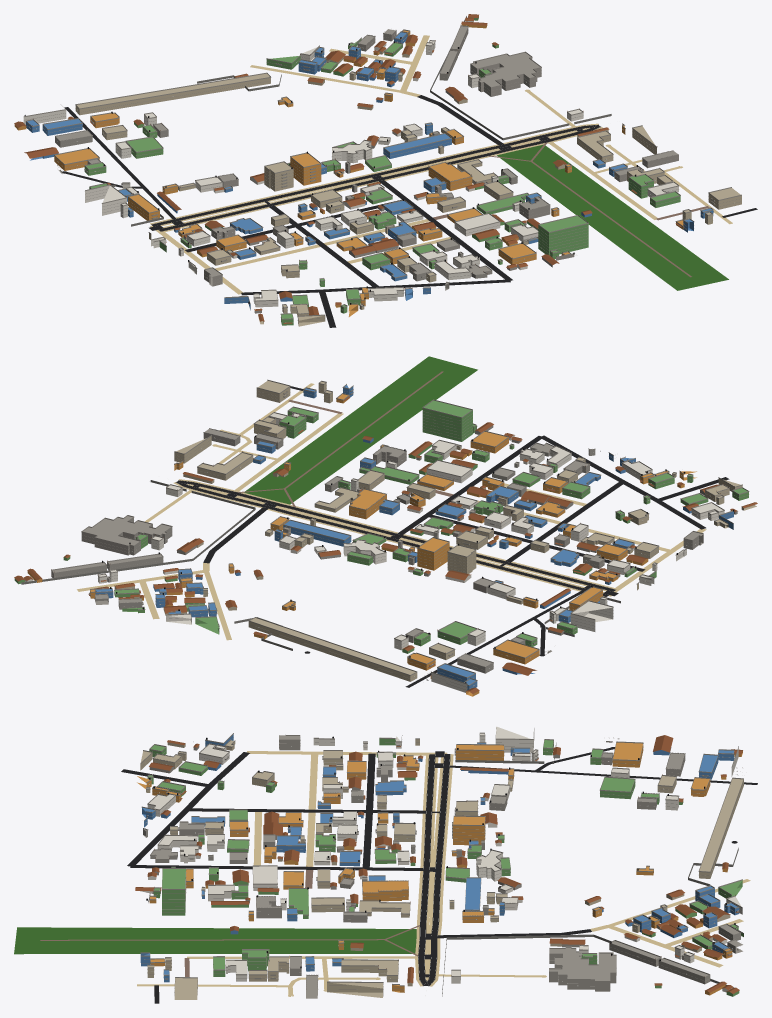
Rendered from zone_t5_1.glb.
3 views of the same model, one above another, from view 1: azimuth 30°, elevation 25°; view 2: azimuth 150°, elevation 25°; view 3: azimuth 270°, elevation 25° (orthographic). The views are drawn at different scales.
Parts seen in each view (by area): view 1: parapet_t5_1, bld_peinture_ecaillee_t5_1-col, zone_herbe_t5_1, bld_peinture_blanc_t5_1-col, bld_peinture_vert_t5_1-col, bld_beton_t5_1-col, bld_peinture_ocre_t5_1-col, bld_peinture_bleu_t5_1-col, toit_tole_t5_1, route_tertiary_bitume_t5_1, route_residential_terre_t5_1, bandeau_t5_1 (+5 smaller); view 2: parapet_t5_1, bld_peinture_ecaillee_t5_1-col, zone_herbe_t5_1, bld_peinture_blanc_t5_1-col, bld_peinture_vert_t5_1-col, bld_beton_t5_1-col, bld_peinture_ocre_t5_1-col, bld_peinture_bleu_t5_1-col, toit_tole_t5_1, bandeau_t5_1, route_residential_bitume_t5_1, route_tertiary_bitume_t5_1 (+5 smaller); view 3: parapet_t5_1, zone_herbe_t5_1, bld_peinture_ecaillee_t5_1-col, bld_beton_t5_1-col, bld_peinture_blanc_t5_1-col, bld_peinture_vert_t5_1-col, bld_peinture_ocre_t5_1-col, toit_tole_t5_1, bld_peinture_bleu_t5_1-col, route_residential_bitume_t5_1, route_tertiary_bitume_t5_1, route_residential_terre_t5_1 (+7 smaller).
Boxes of the visible parts, x1,y1,x2,y2 form: parapet_t5_1: (23,25,741,320); bld_peinture_ecaillee_t5_1-col: (75,49,741,326); zone_herbe_t5_1: (497,144,728,290); bld_peinture_blanc_t5_1-col: (23,21,678,307); bld_peinture_vert_t5_1-col: (84,16,680,325); bld_beton_t5_1-col: (55,26,678,313); bld_peinture_ocre_t5_1-col: (14,24,683,316); bld_peinture_bleu_t5_1-col: (26,32,713,310); toit_tole_t5_1: (14,14,609,321); route_tertiary_bitume_t5_1: (149,124,600,231); route_residential_terre_t5_1: (150,35,657,294); bandeau_t5_1: (24,30,741,322); parapet_t5_1: (51,379,749,685); bld_peinture_ecaillee_t5_1-col: (114,380,756,681); zone_herbe_t5_1: (244,356,477,504); bld_peinture_blanc_t5_1-col: (24,413,724,692); bld_peinture_vert_t5_1-col: (14,400,748,653); bld_beton_t5_1-col: (51,425,737,673); bld_peinture_ocre_t5_1-col: (27,394,696,696); bld_peinture_bleu_t5_1-col: (95,385,733,690); toit_tole_t5_1: (14,422,757,693); bandeau_t5_1: (51,386,748,690); route_residential_bitume_t5_1: (397,435,729,571); route_tertiary_bitume_t5_1: (175,480,618,596); parapet_t5_1: (140,727,743,991); zone_herbe_t5_1: (14,927,416,954); bld_peinture_ecaillee_t5_1-col: (140,739,743,999); bld_beton_t5_1-col: (140,735,742,998); bld_peinture_blanc_t5_1-col: (147,726,742,992); bld_peinture_vert_t5_1-col: (147,738,743,996); bld_peinture_ocre_t5_1-col: (137,742,742,995); toit_tole_t5_1: (135,735,742,993); bld_peinture_bleu_t5_1-col: (140,734,739,982); route_residential_bitume_t5_1: (121,752,425,870); route_tertiary_bitume_t5_1: (418,751,450,986); route_residential_terre_t5_1: (187,751,750,967).
Size of the model in its own units: 526 by 24.9 by 626.
